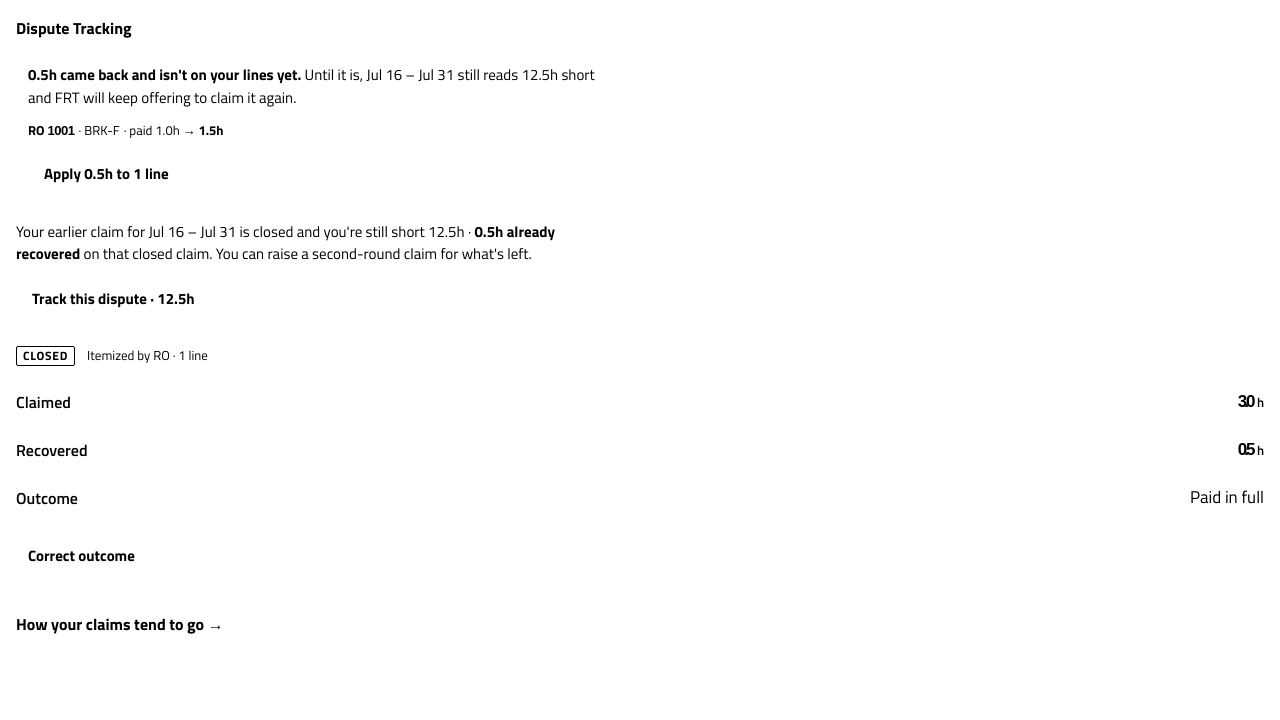
DisputeOutcomeCard renders a returned refusal › Apply: shows 'That claim no longer exists.'
Click the button "Apply 0.5h to 1 line" at (106, 174), box [28,152,185,196]
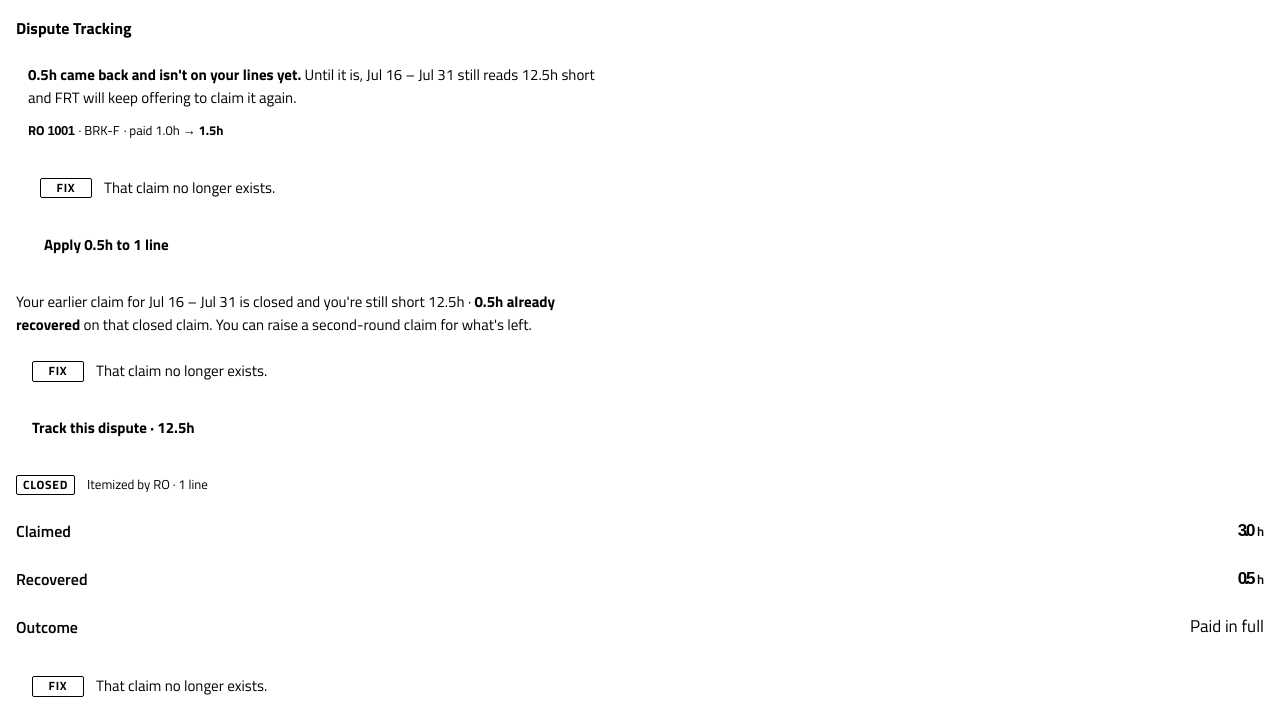
Expected: the text "That claim no longer exists." below "BRK-F" is shown, [104,176,275,198]
